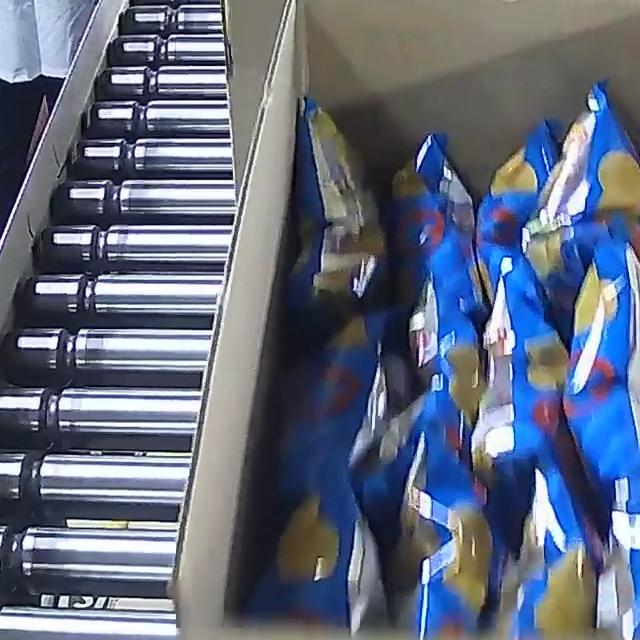paprika: (230, 75, 640, 640)
